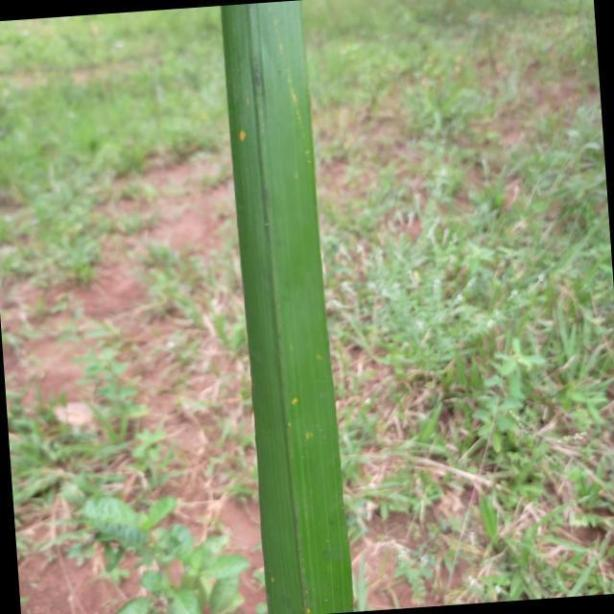Kalium: (222, 1, 354, 614)
